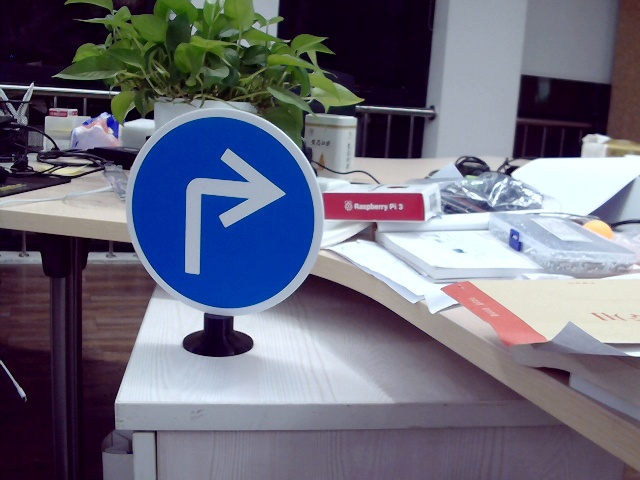turn_right: (172, 139, 290, 277)
